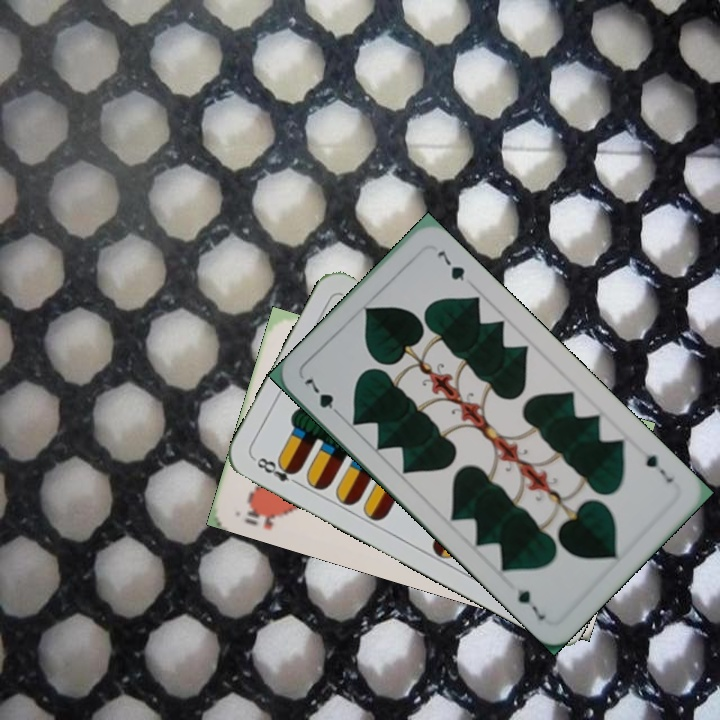E8: (249, 453, 304, 489)
G7: (300, 374, 345, 421), (637, 445, 676, 486)
HO: (239, 500, 291, 532)
